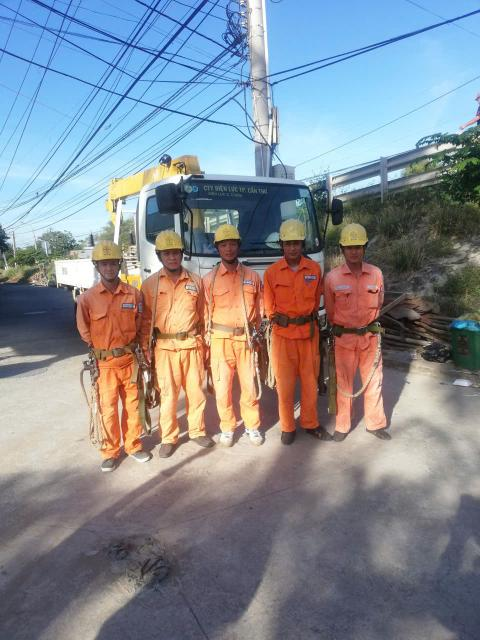harness: (263, 307, 329, 335), (87, 341, 152, 365), (330, 317, 392, 340), (154, 322, 208, 348), (206, 316, 255, 338)
helmet: (149, 228, 196, 263), (86, 238, 128, 270), (335, 221, 374, 251), (208, 220, 247, 248), (277, 214, 312, 245)
shoes: (360, 423, 398, 446), (242, 422, 271, 451), (278, 417, 305, 446), (307, 418, 335, 443), (218, 427, 243, 450), (96, 451, 120, 474), (126, 442, 151, 464), (154, 440, 180, 461), (330, 423, 353, 445), (186, 434, 216, 449)
